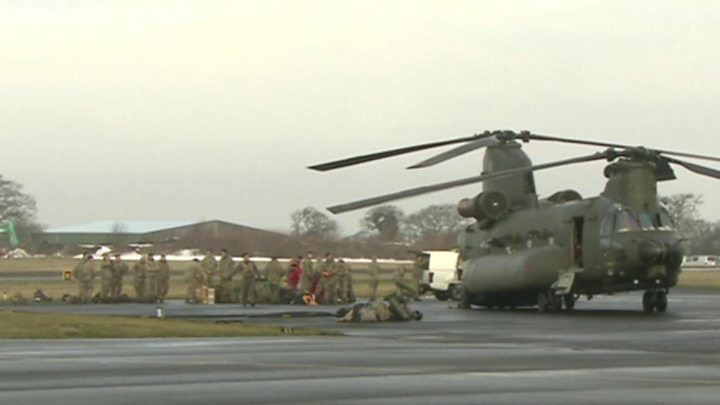chinook: (431, 121, 690, 323)
